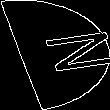N_W: (9, 30, 101, 80)
